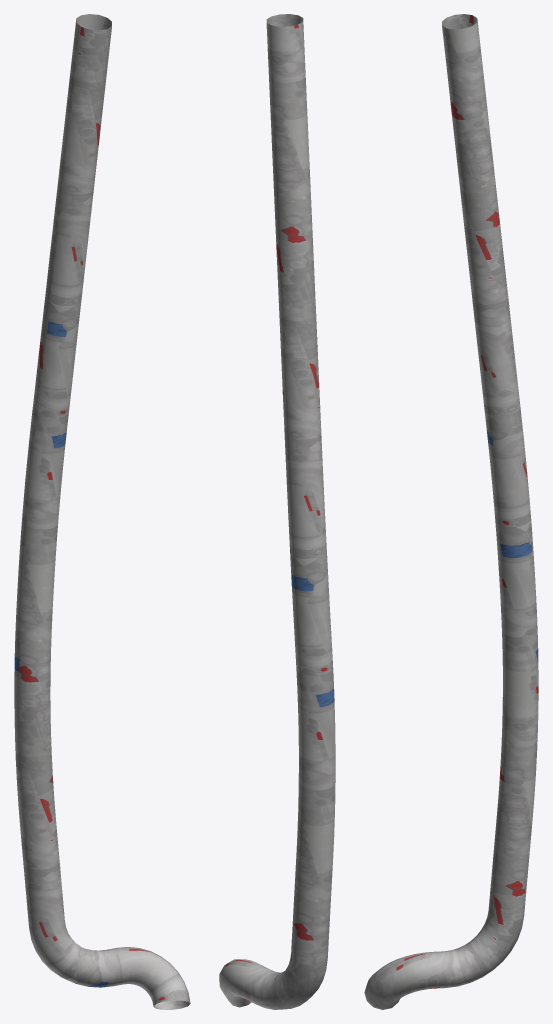
File: Pipe__16.fbx
3 views of the same model, side by side, from view 1: azimuth 90°, elevation 25°; view 2: azimuth 210°, elevation 25°; view 3: azimuth 270°, elevation 25° (orthographic). The views are drawn at different scales.
Visible parts, largest first — view 1: MAT_Pipe_01; view 2: MAT_Pipe_01; view 3: MAT_Pipe_01.
Part boxes in pixels (bbox=[...]): MAT_Pipe_01: bbox=[14, 14, 190, 1009]; MAT_Pipe_01: bbox=[219, 14, 335, 1009]; MAT_Pipe_01: bbox=[364, 14, 538, 1009].
Size of the model in its own units: 0.9521 by 17.66 by 2.83.
Materials: 1 (1 with a texture image).
